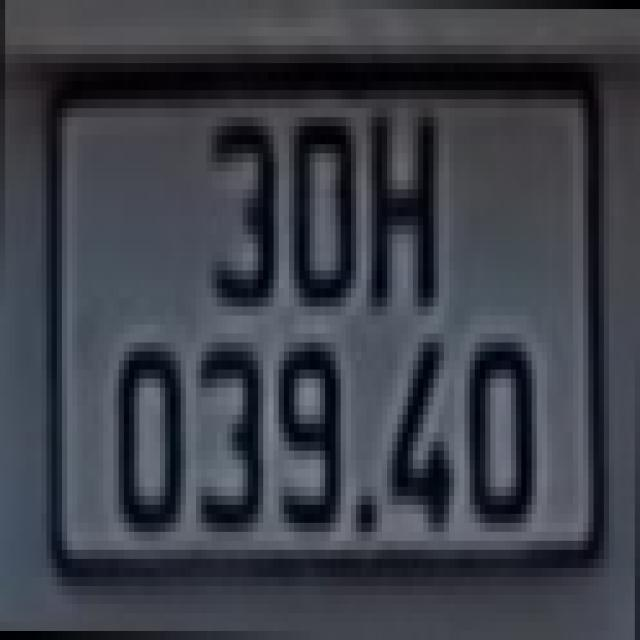0: (113, 333, 186, 532), (464, 333, 537, 523)
3: (206, 108, 279, 307), (196, 342, 263, 532)
4: (387, 333, 454, 532)
9: (274, 333, 340, 532)
D: (289, 108, 356, 307)
H: (366, 99, 444, 316)
